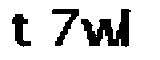7: (46, 5, 79, 52)
l: (120, 3, 143, 52)
t: (8, 9, 36, 51)
w: (80, 17, 122, 52)
